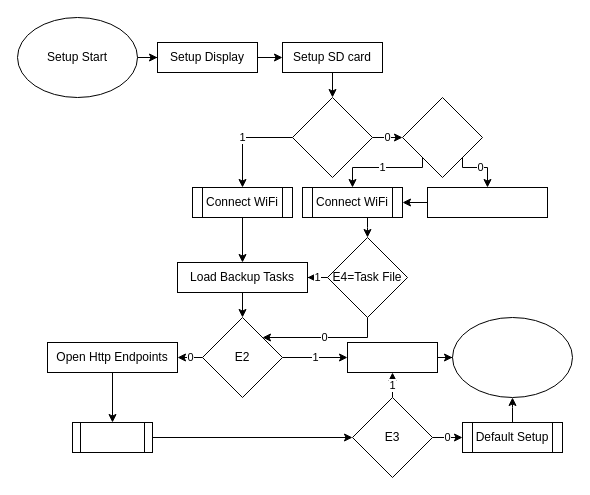
Image size: 590x495. Some labels were removed from this diagram. Each missing label, with the centre of its shape:
"E0 = SD card Error" goes at (332,137).
"E1 = WiFi File" goes at (442,137).
"Load Wifi File" goes at (487,202).
"Relay = Low" goes at (392,357).
"Setup End" goes at (512,357).
"Time Sync" goes at (112,437).
